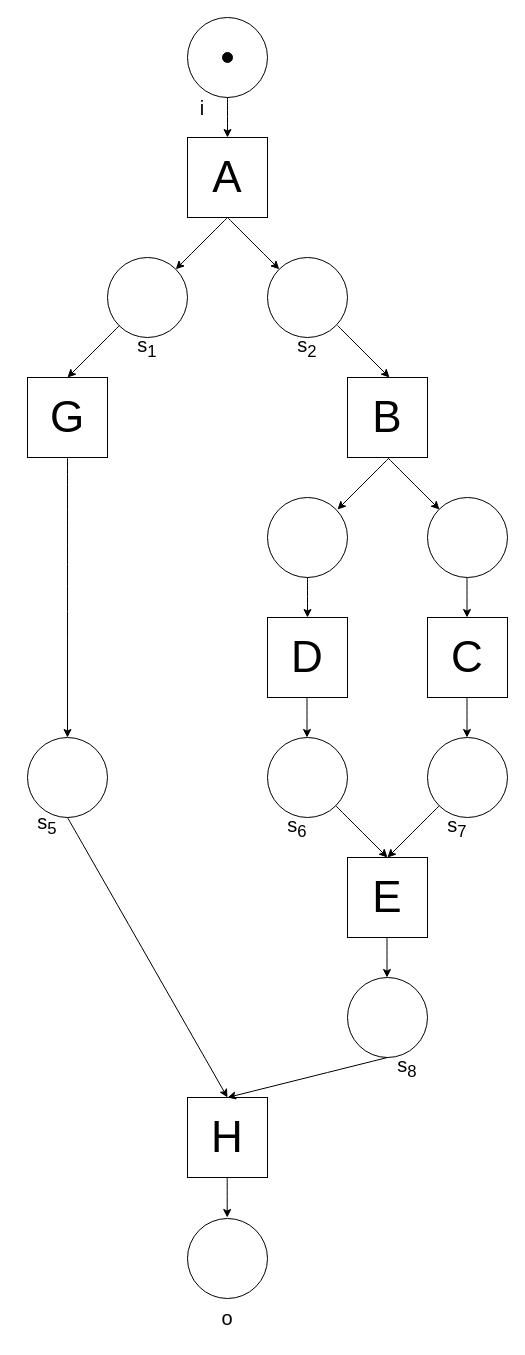
This 525x1355 diagram has some shape labels left out. The centre of each missing label's shape, as x and y in pixels:
"s 3" goes at (307,537).
"s 4" goes at (467,537).
